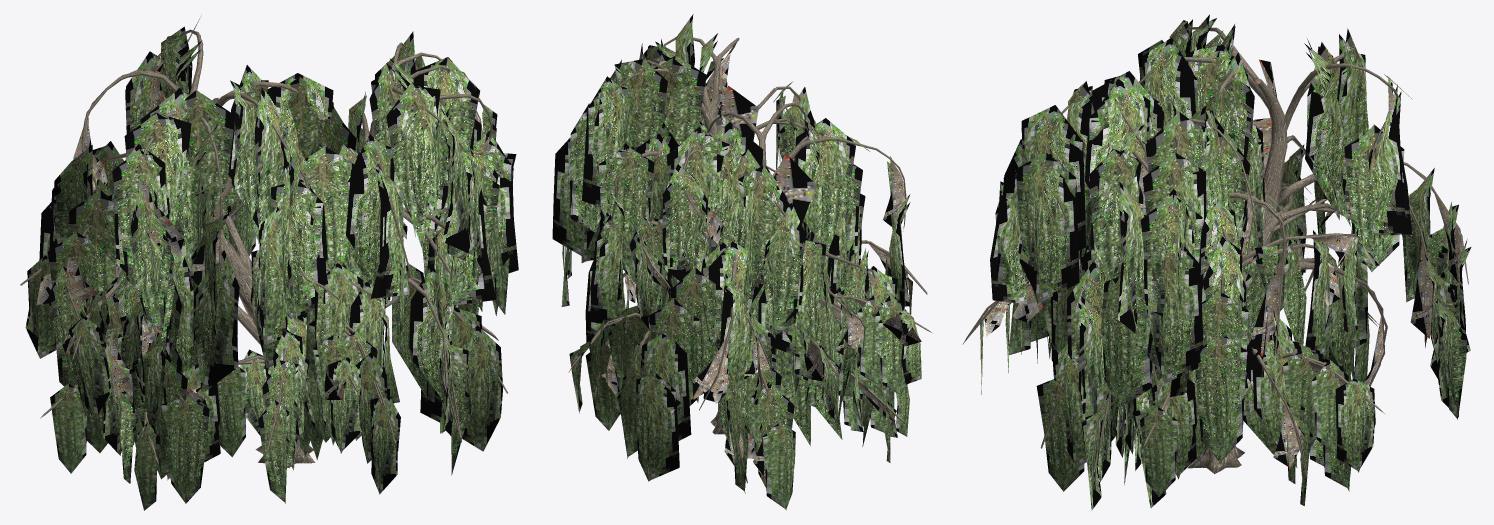
The model's file is WeepingWillow_Low-transformed.glb.
The picture shows the model from 3 angles, left to right: view 1: azimuth 30°, elevation 25°; view 2: azimuth 150°, elevation 25°; view 3: azimuth 270°, elevation 25°; orthographic projection. The views are drawn at different scales.
Parts seen in each view (by area): view 1: WeepingWillow_Low_LOD0; view 2: WeepingWillow_Low_LOD0; view 3: WeepingWillow_Low_LOD0.
Part boxes in pixels (box(x1,y1,x2,y2)): WeepingWillow_Low_LOD0: box(20, 18, 518, 510); WeepingWillow_Low_LOD0: box(552, 14, 931, 510); WeepingWillow_Low_LOD0: box(962, 14, 1471, 510).
Size of the model in its own units: 10.79 by 10.24 by 10.99.
Materials: 2 (2 with a texture image).
